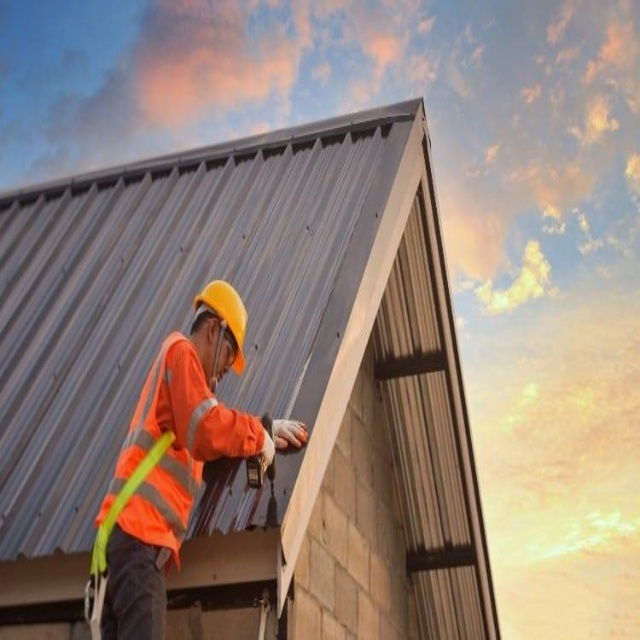Arnes_seguridad: (86, 331, 218, 640)
